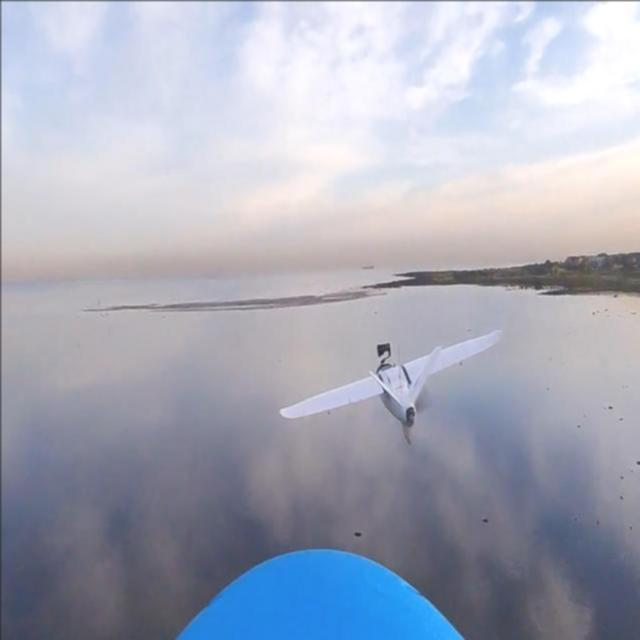plane: (276, 326, 501, 445)
